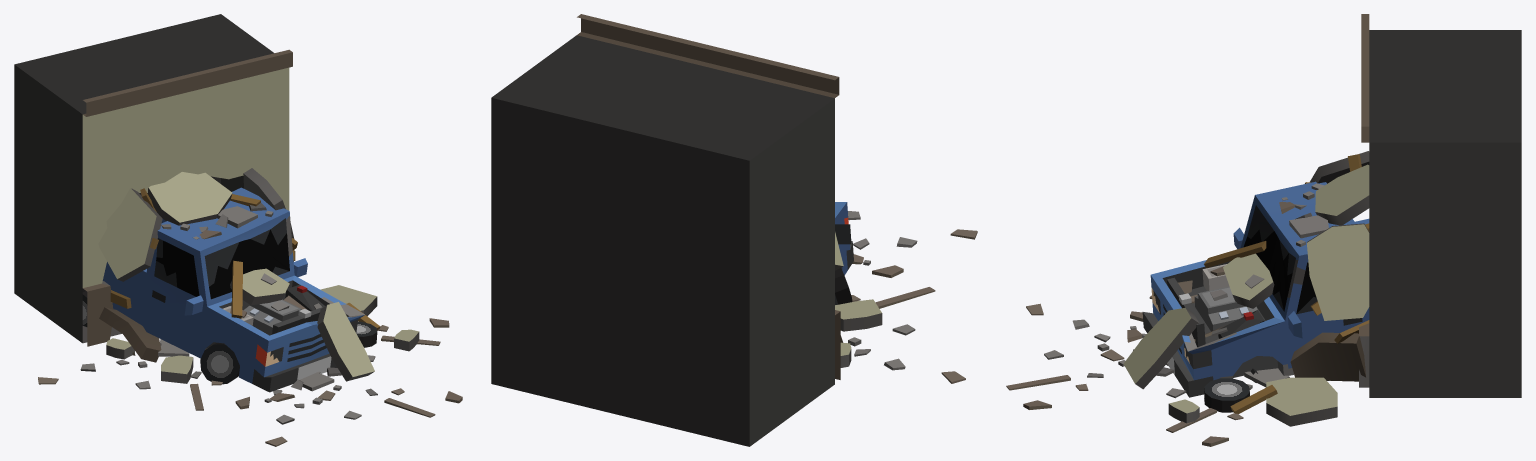
File: AI_Env_Wall_Bar_CarCrash.fbx
The picture shows the model from 3 angles, left to right: view 1: azimuth 30°, elevation 25°; view 2: azimuth 150°, elevation 25°; view 3: azimuth 270°, elevation 25°; orthographic projection. The views are drawn at different scales.
Parts seen in each view (by area): view 1: AI_Env_Wall_Bar_CarCrash; view 2: AI_Env_Wall_Bar_CarCrash; view 3: AI_Env_Wall_Bar_CarCrash.
Part boxes in pixels (bbox=[...]): AI_Env_Wall_Bar_CarCrash: bbox=[14, 14, 462, 446]; AI_Env_Wall_Bar_CarCrash: bbox=[491, 14, 977, 446]; AI_Env_Wall_Bar_CarCrash: bbox=[1006, 14, 1521, 446].
Size of the model in its own units: 8.94 by 5.81 by 9.68.
